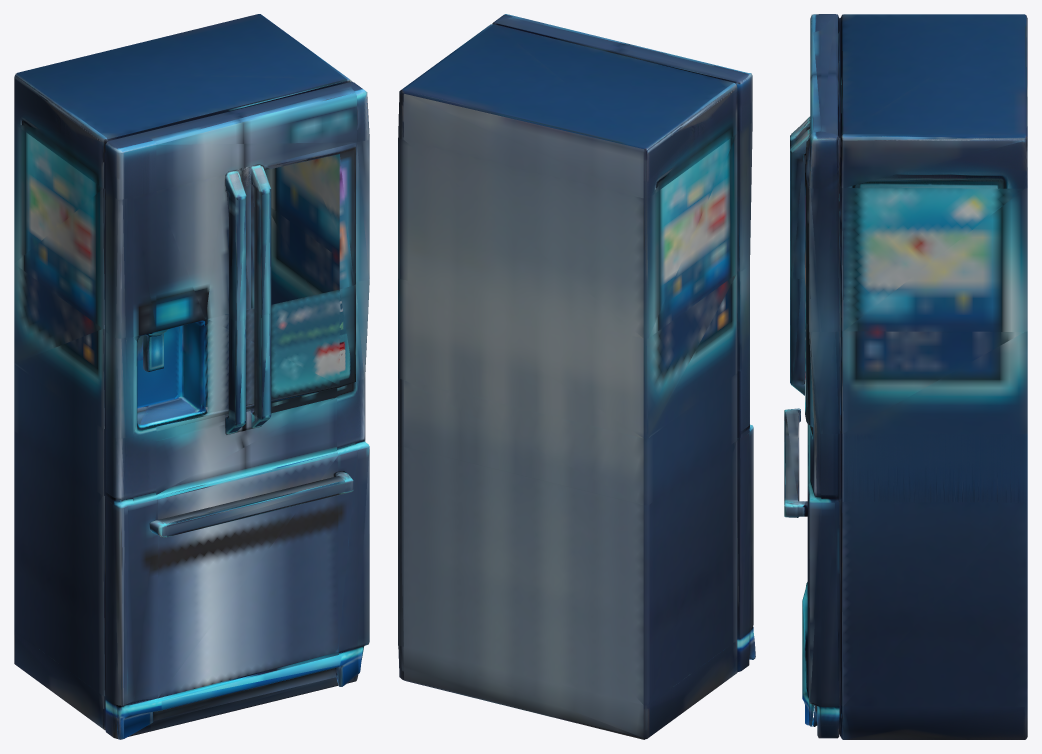
Rendered from fridge-neon.glb.
The picture shows the model from 3 angles, left to right: view 1: azimuth 30°, elevation 25°; view 2: azimuth 150°, elevation 25°; view 3: azimuth 270°, elevation 25°; orthographic projection. The views are drawn at different scales.
Parts seen in each view (by area): view 1: Mesh_0; view 2: Mesh_0; view 3: Mesh_0.
Part boxes in pixels (box(x1,y1,x2,y2)): Mesh_0: box(14, 14, 369, 739); Mesh_0: box(398, 14, 755, 739); Mesh_0: box(784, 14, 1027, 739).
Size of the model in its own units: 0.4435 by 1 by 0.3634.
1 material, 1 textured.
